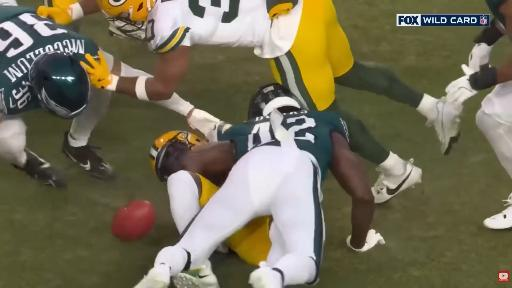Helmet: (29, 52, 90, 118), (150, 131, 203, 181), (248, 83, 306, 119), (98, 0, 154, 22)
Jersey: (0, 7, 98, 114), (146, 0, 302, 57), (282, 111, 349, 179), (226, 217, 270, 265), (486, 0, 505, 23)
Player: (88, 0, 461, 153), (136, 96, 383, 287), (0, 5, 111, 186), (0, 0, 99, 186), (447, 0, 511, 177), (151, 131, 223, 233), (44, 0, 98, 32)
